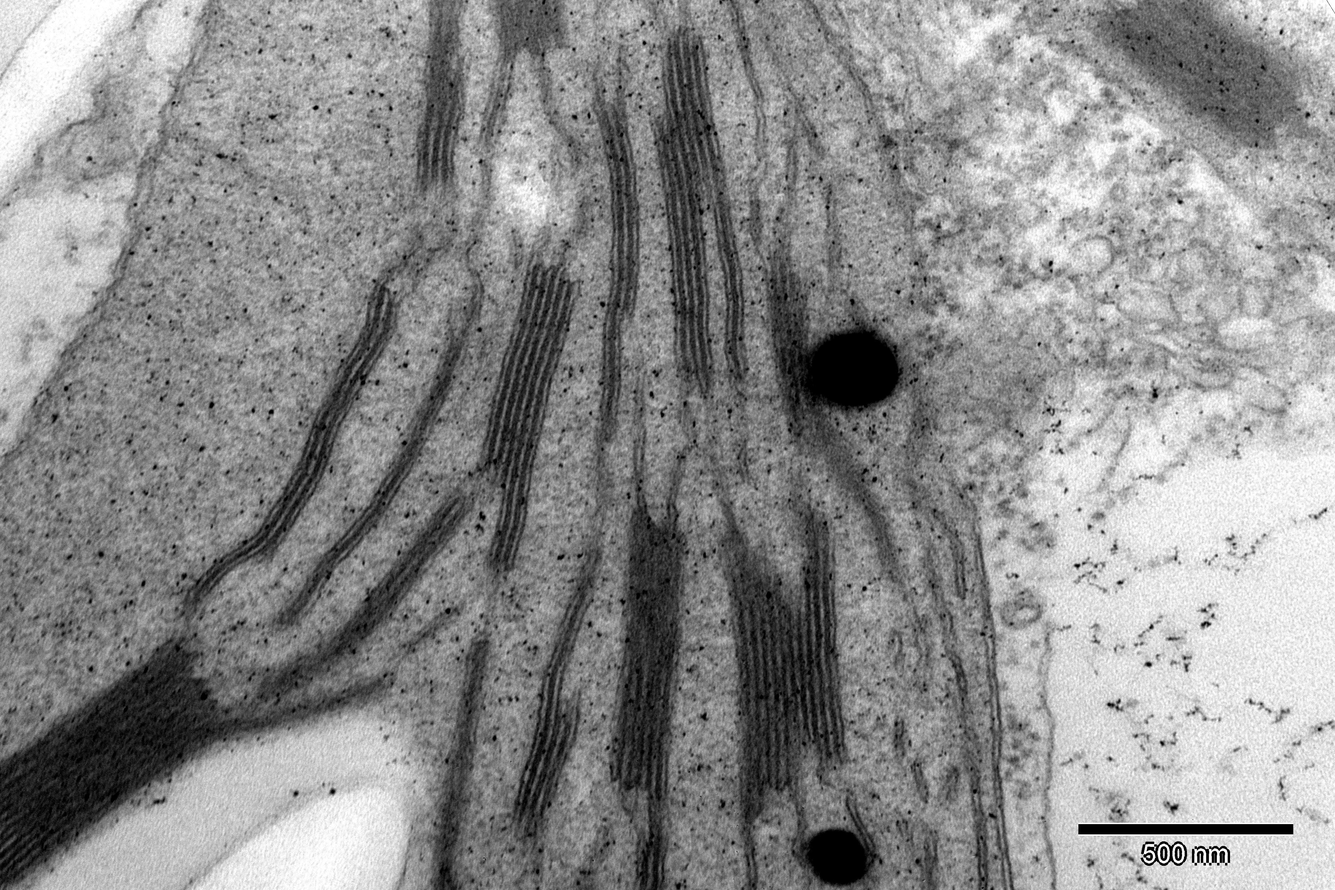granum: (0, 629, 244, 889), (240, 282, 401, 567), (713, 504, 853, 799), (469, 257, 582, 575), (1081, 0, 1306, 152), (646, 23, 733, 386), (315, 484, 479, 668), (602, 521, 689, 795), (760, 252, 838, 449), (407, 0, 473, 200), (502, 689, 586, 840), (588, 95, 643, 322), (485, 0, 580, 56), (627, 831, 672, 890)
